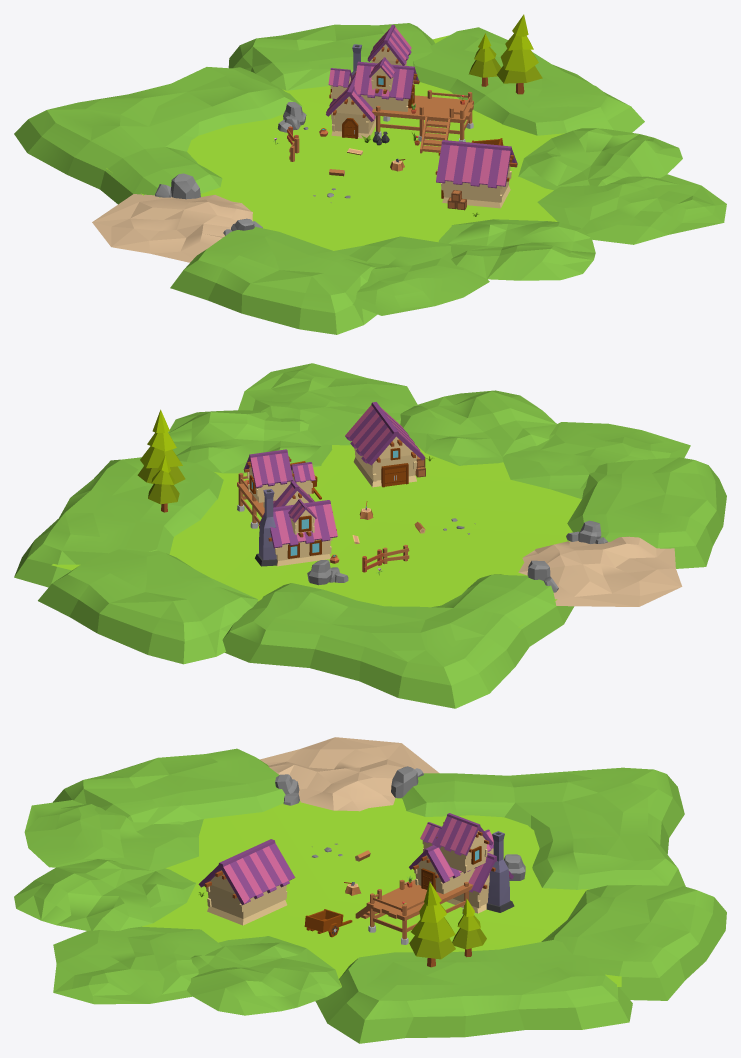
The picture shows the model from 3 angles, top to bottom: view 1: azimuth 30°, elevation 25°; view 2: azimuth 150°, elevation 25°; view 3: azimuth 270°, elevation 25°; orthographic projection. The views are drawn at different scales.
Parts seen in each view (by area): view 1: model_0_001.015, model_0_001.003, model_0_001.025, model_0_001.014, model_0_001.001, model_0_001.008, model_0_001.002, model_0_001.005; view 2: model_0_001.015, model_0_001.003, model_0_001.025, model_0_001.014, model_0_001.001, model_0_001.008, model_0_001.002, model_0_001.005; view 3: model_0_001.015, model_0_001.003, model_0_001.025, model_0_001.014, model_0_001.001, model_0_001.008, model_0_001.002, model_0_001.004.
Part boxes in pixels (<box>): model_0_001.015: <box>14,23,726,334</box>; model_0_001.003: <box>319,24,473,153</box>; model_0_001.025: <box>92,194,252,262</box>; model_0_001.014: <box>435,140,517,208</box>; model_0_001.001: <box>496,14,542,94</box>; model_0_001.008: <box>155,173,262,235</box>; model_0_001.002: <box>469,33,501,86</box>; model_0_001.005: <box>277,102,308,132</box>; model_0_001.015: <box>14,363,726,708</box>; model_0_001.003: <box>237,449,339,566</box>; model_0_001.025: <box>518,536,682,606</box>; model_0_001.014: <box>345,402,425,487</box>; model_0_001.001: <box>137,409,185,484</box>; model_0_001.008: <box>527,520,607,592</box>; model_0_001.002: <box>148,455,179,512</box>; model_0_001.005: <box>307,560,348,585</box>; model_0_001.015: <box>14,748,726,1043</box>; model_0_001.003: <box>355,813,514,944</box>; model_0_001.025: <box>260,737,439,811</box>; model_0_001.014: <box>198,839,295,925</box>; model_0_001.001: <box>409,881,455,967</box>; model_0_001.008: <box>275,766,423,805</box>; model_0_001.002: <box>452,899,486,957</box>; model_0_001.004: <box>304,909,352,937</box>.
Bounding box in the file's own units: 5491 × 1027 × 5711.
Materials: 1 (1 with a texture image).
